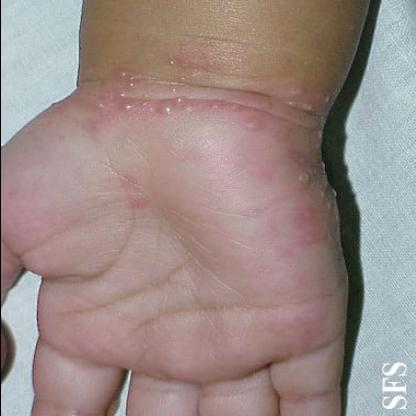Fire ant: (74, 58, 268, 132), (275, 78, 345, 148), (296, 150, 338, 252)
